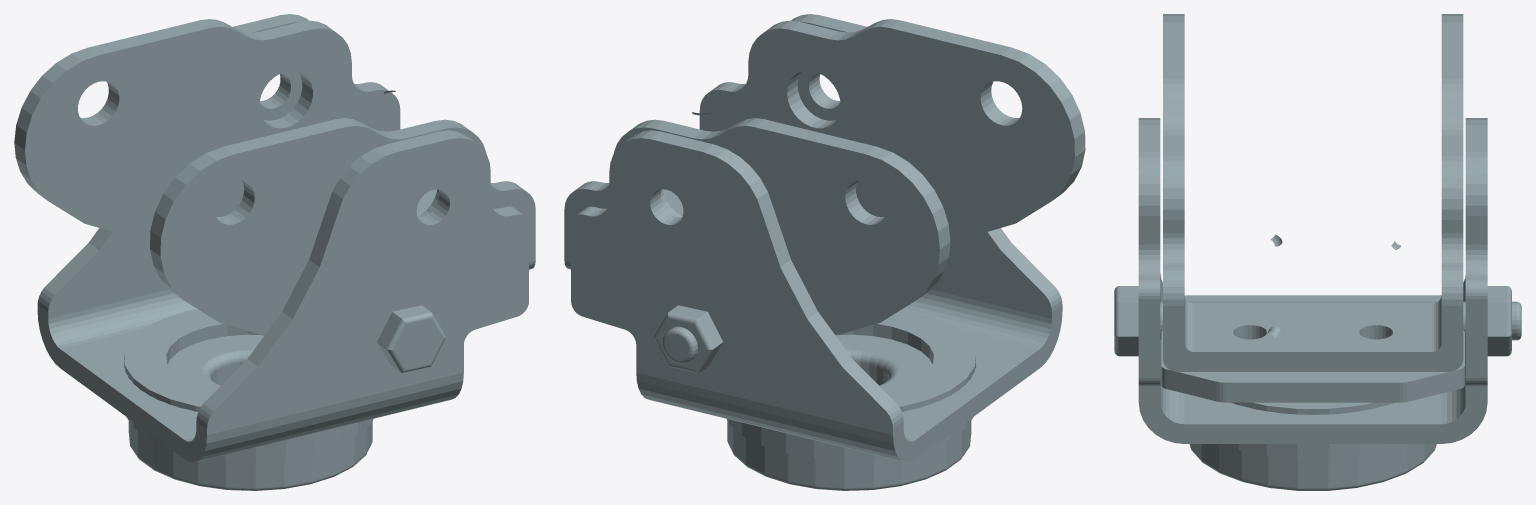
File: castor_joint.obj
3 views of the same model, side by side, from view 1: azimuth 30°, elevation 25°; view 2: azimuth 150°, elevation 25°; view 3: azimuth 270°, elevation 25° (orthographic). The views are drawn at different scales.
Visible parts, largest first — view 1: geometry0; view 2: geometry0; view 3: geometry0.
Boxes of the visible parts, <box> form: geometry0: <box>14,14,535,490</box>; geometry0: <box>564,14,1085,490</box>; geometry0: <box>1114,14,1521,490</box>.
Size of the model in its own units: 0.0974 by 0.0848 by 0.084.
